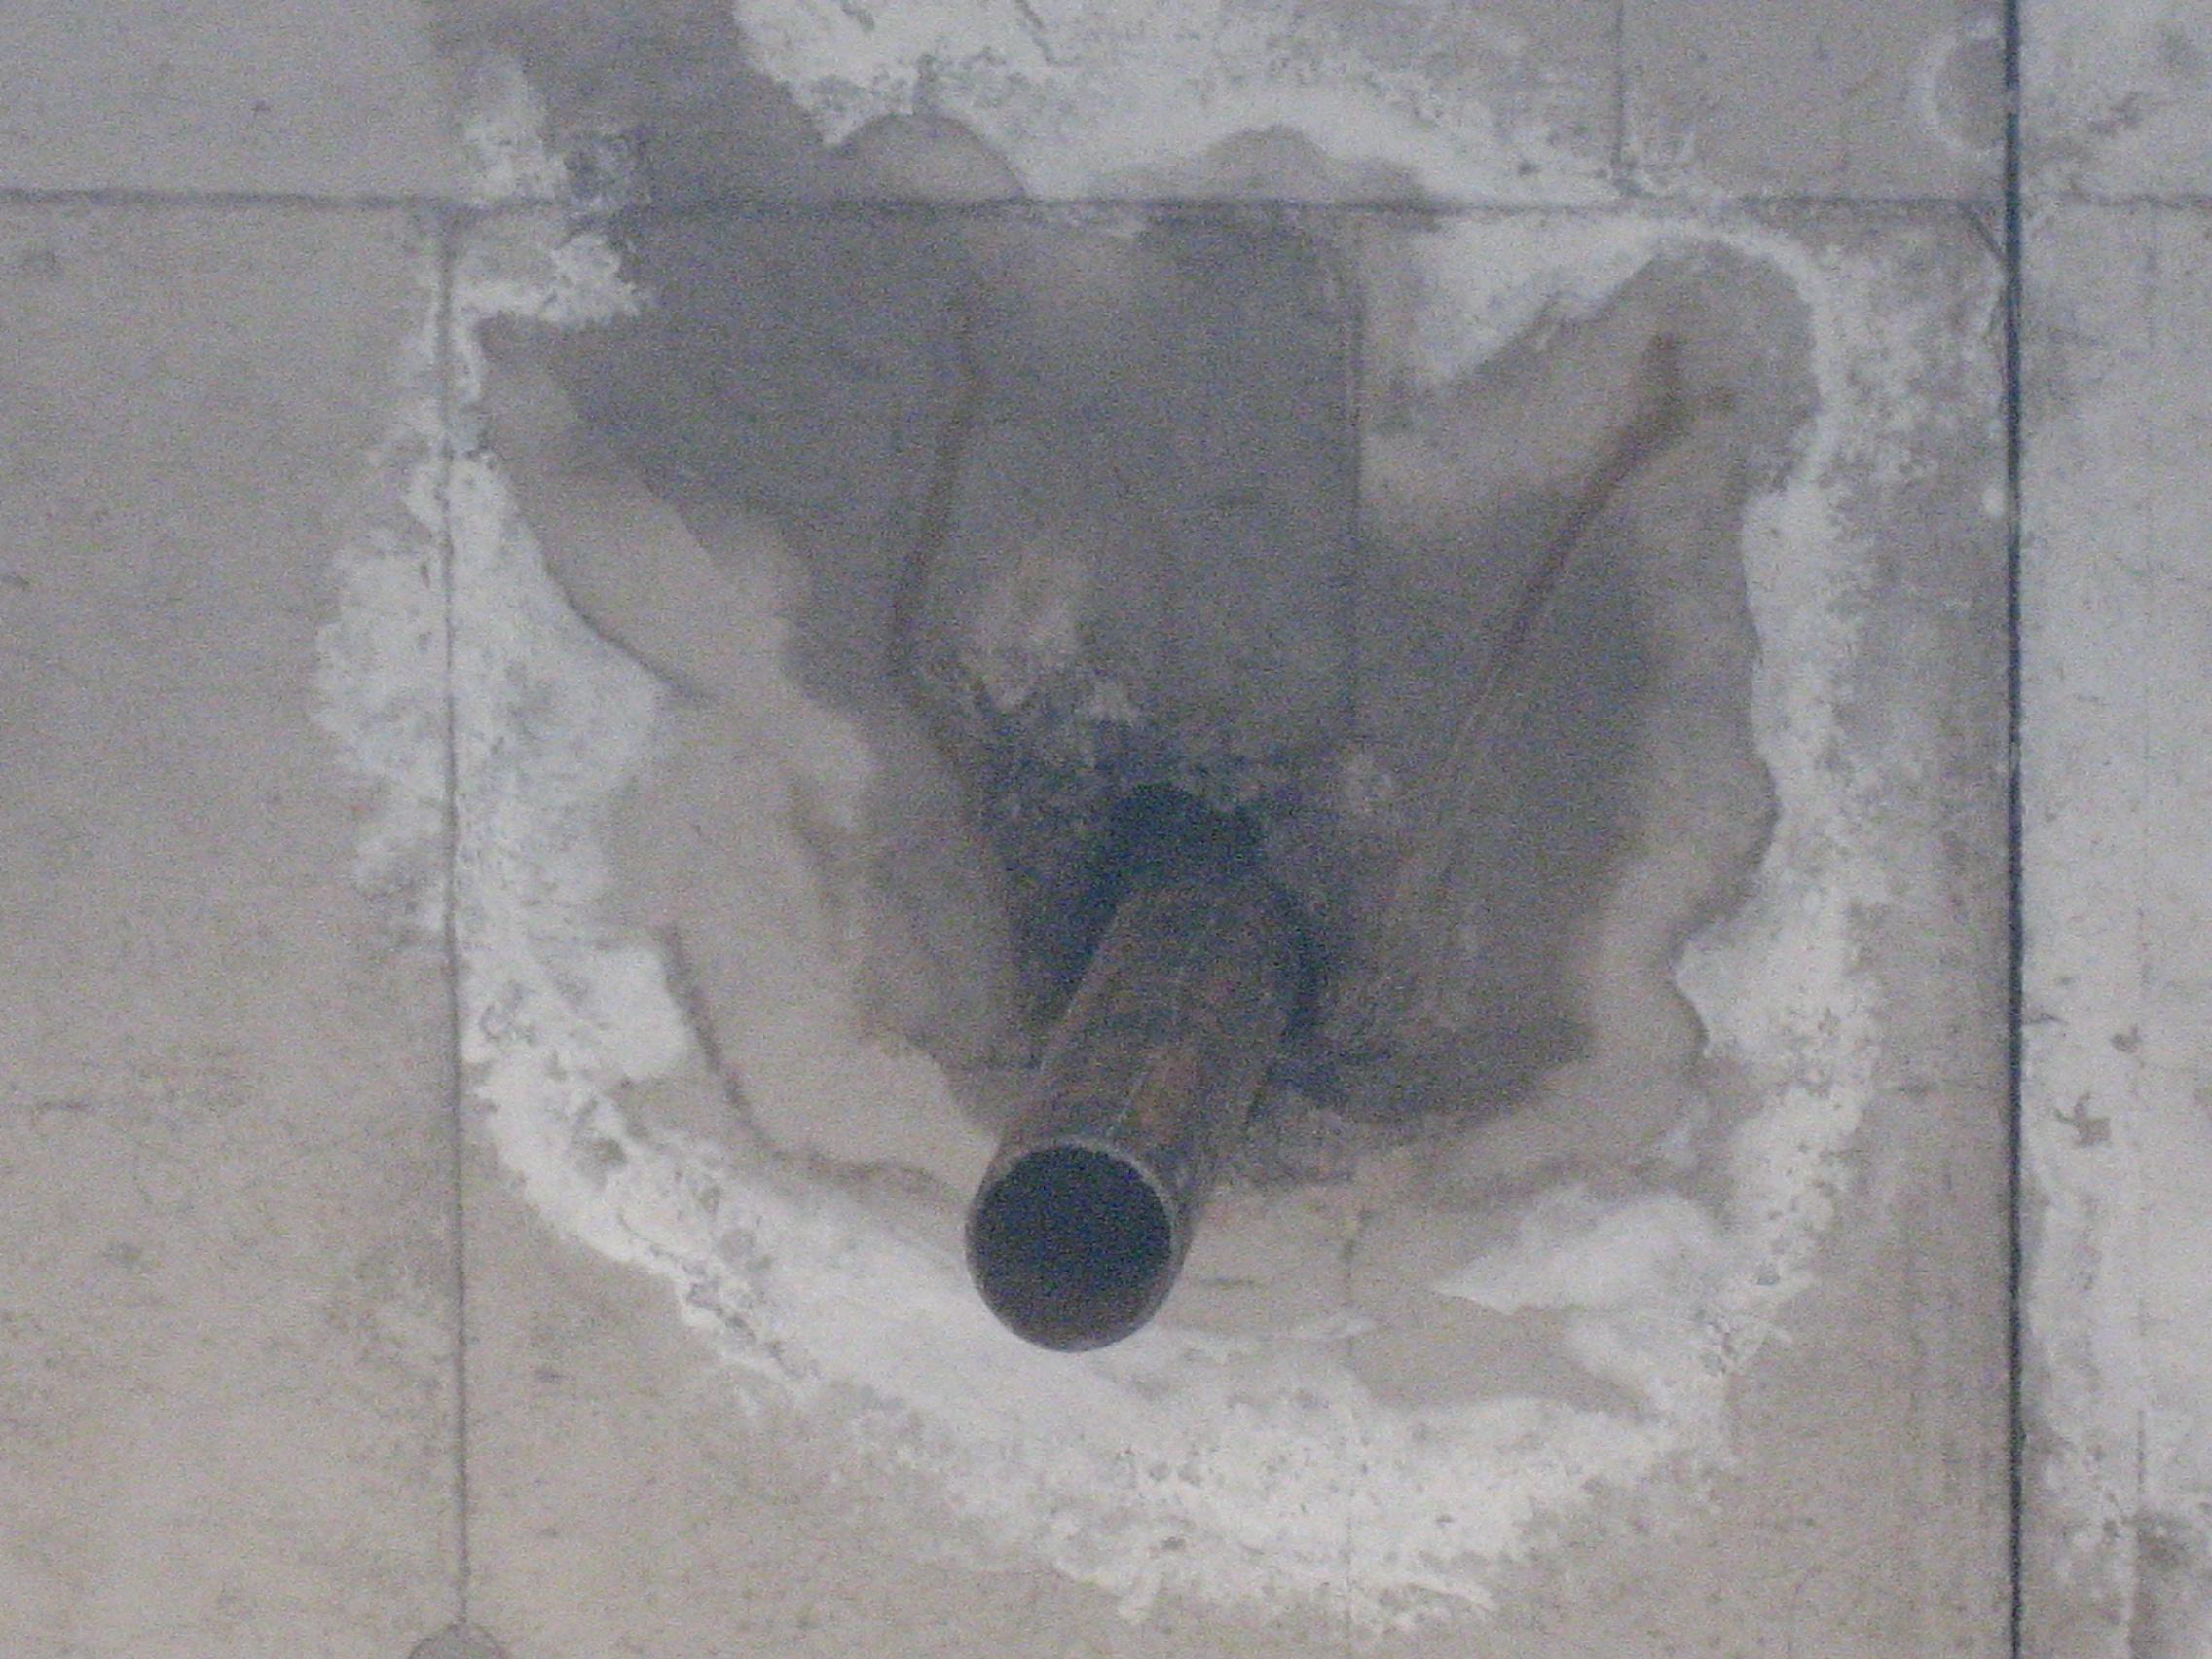Corrosion: (296, 2, 1925, 1633)
